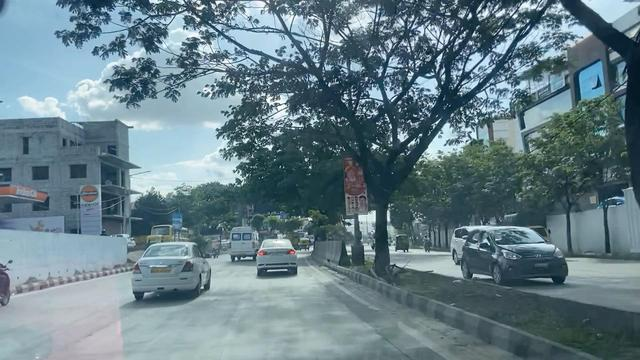HMV: (232, 228, 256, 259)
LMV: (133, 244, 198, 291), (258, 242, 295, 272)
